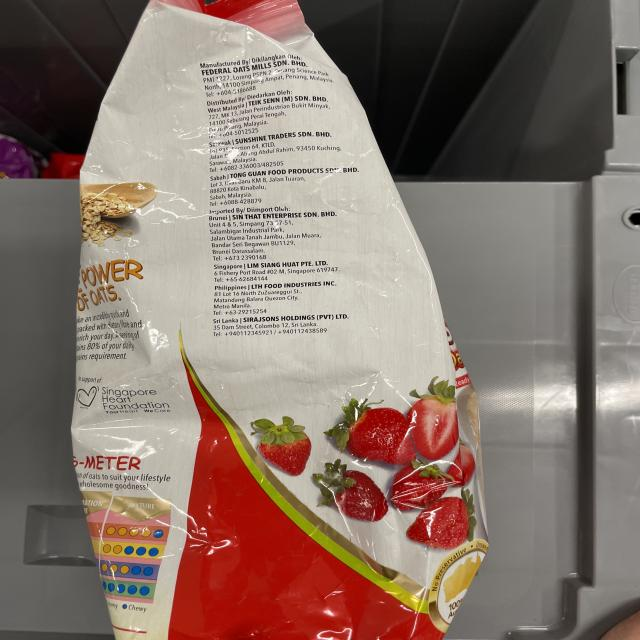object_name: (105, 28, 425, 640)
